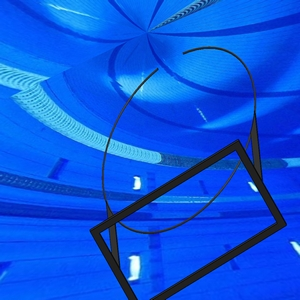circle: (89, 46, 287, 299)
